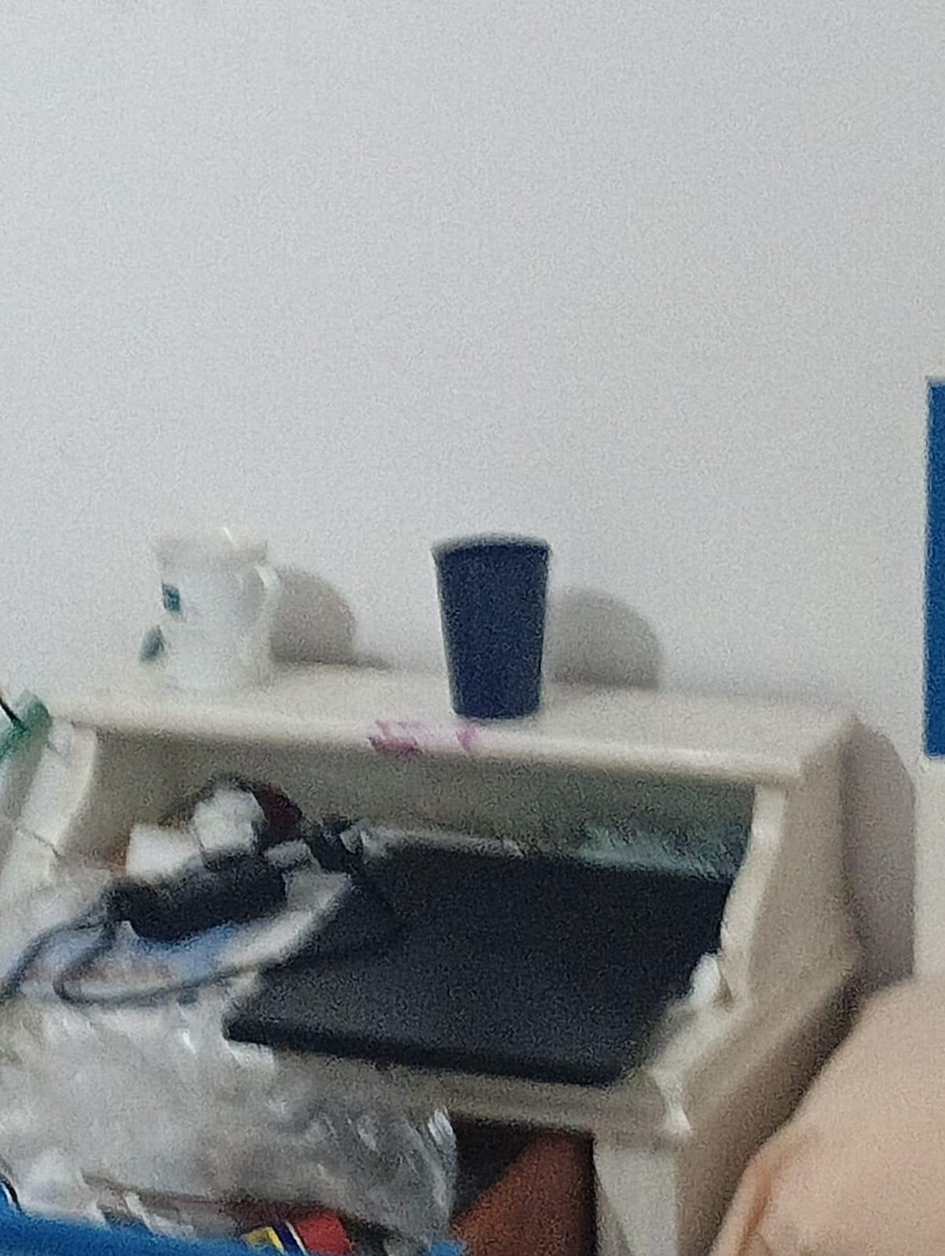cup: (433, 536, 549, 718), (155, 529, 280, 689)
